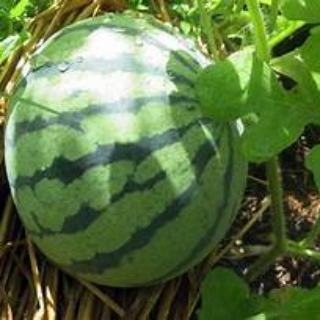dua_hau: (4, 13, 249, 287)
